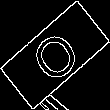O_SE: (24, 22, 86, 88)
